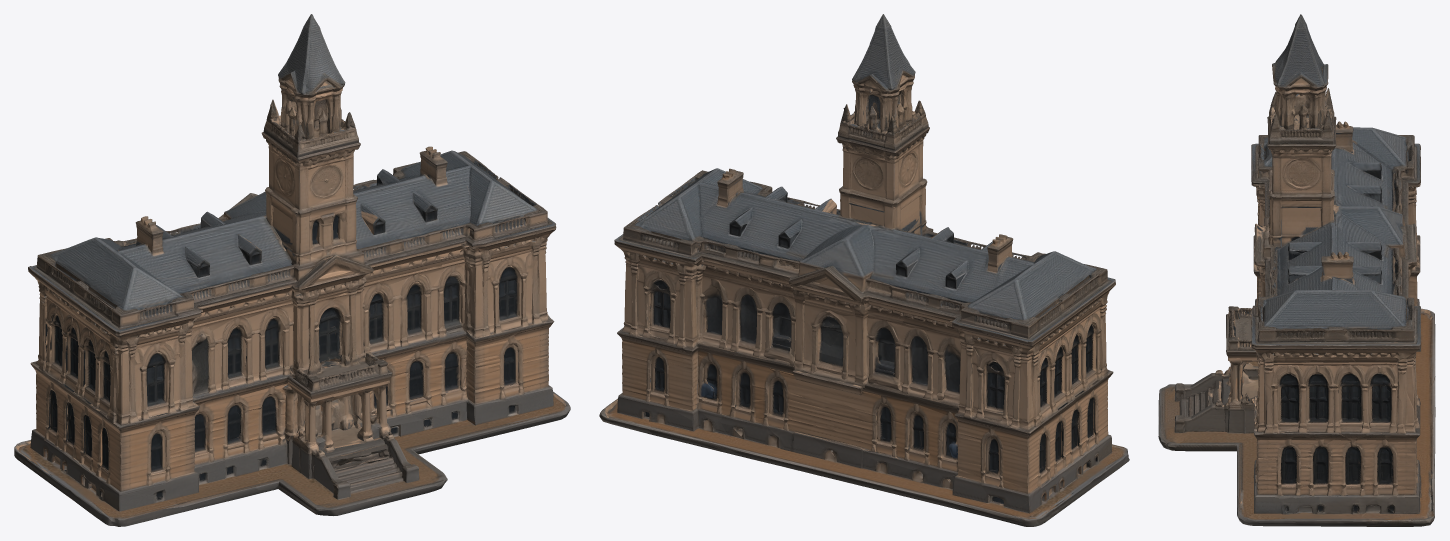
Rendered from building_town_hall.glb.
3 renders of one model, left to right at view 1: azimuth 30°, elevation 25°; view 2: azimuth 150°, elevation 25°; view 3: azimuth 270°, elevation 25°, orthographic. The views are drawn at different scales.
Parts seen in each view (by area): view 1: output_unwrapped; view 2: output_unwrapped; view 3: output_unwrapped.
Part boxes in pixels (left/top/right/bottom): output_unwrapped: left=14, top=14, right=570, bottom=526; output_unwrapped: left=599, top=14, right=1129, bottom=526; output_unwrapped: left=1158, top=14, right=1435, bottom=526.
Bounding box in the file's own units: 2 × 1.79 × 1.1.
Materials: 1 (1 with a texture image).
